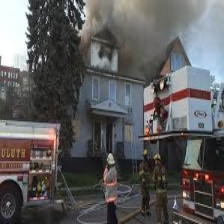smoke: (81, 1, 213, 67)
